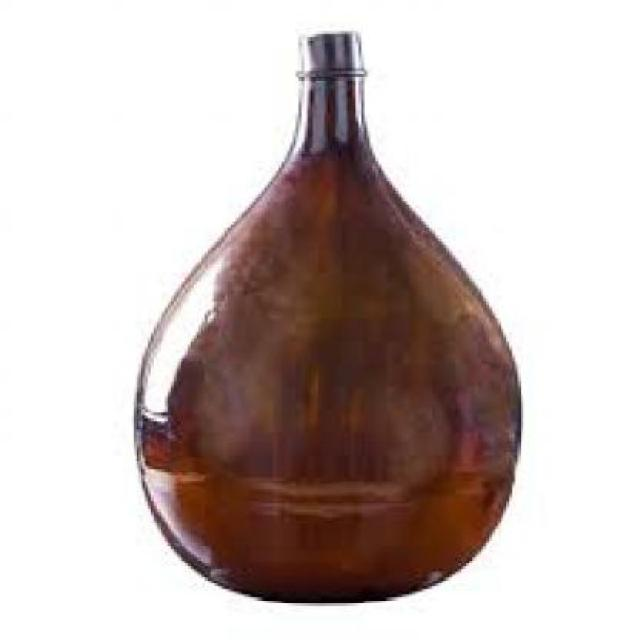kaca: (134, 31, 517, 600)
